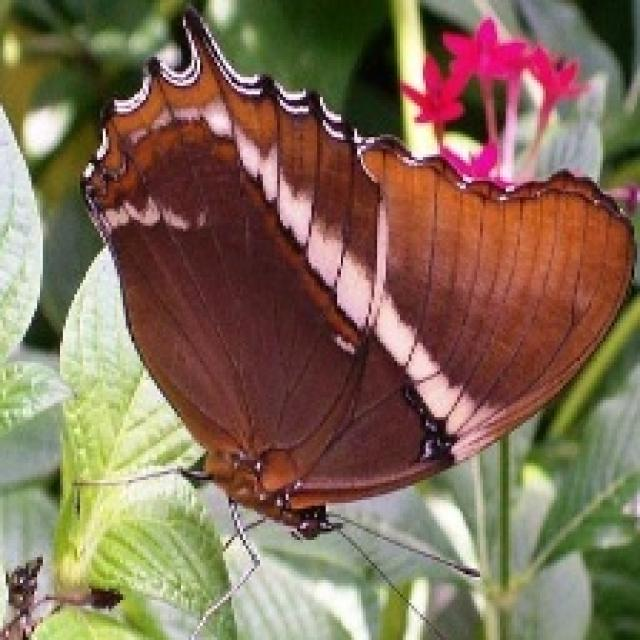butterfly: (72, 3, 637, 637)
